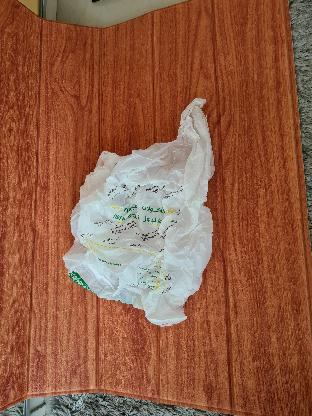Plastic Bag: (65, 98, 213, 328)
